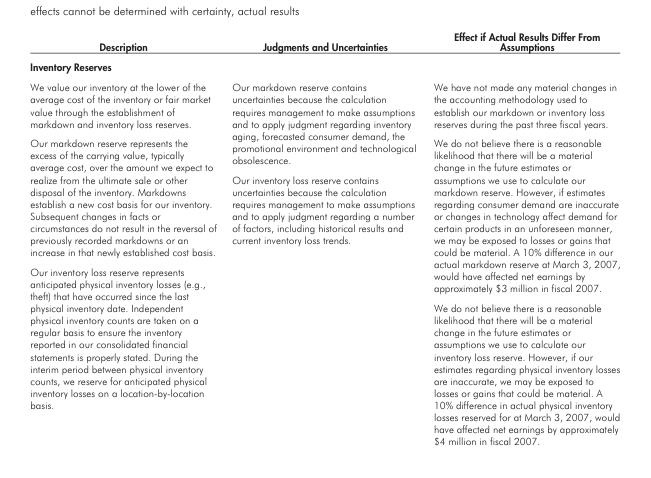table: (29, 29, 619, 446)
table column: (223, 29, 424, 446), (424, 29, 619, 446), (29, 29, 223, 446)
table column header: (29, 29, 619, 56)
table projected row header: (29, 56, 619, 76)
table row: (29, 76, 619, 446), (29, 29, 619, 56), (29, 56, 619, 76)
